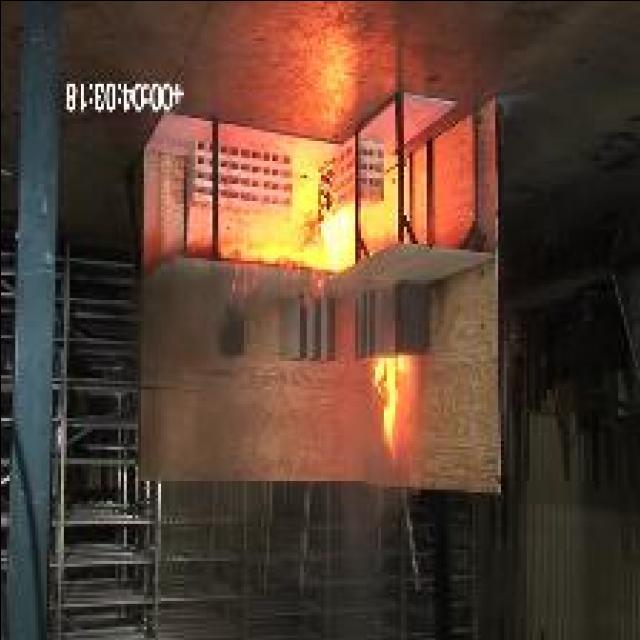Fire: (227, 168, 353, 300), (373, 357, 410, 460)
